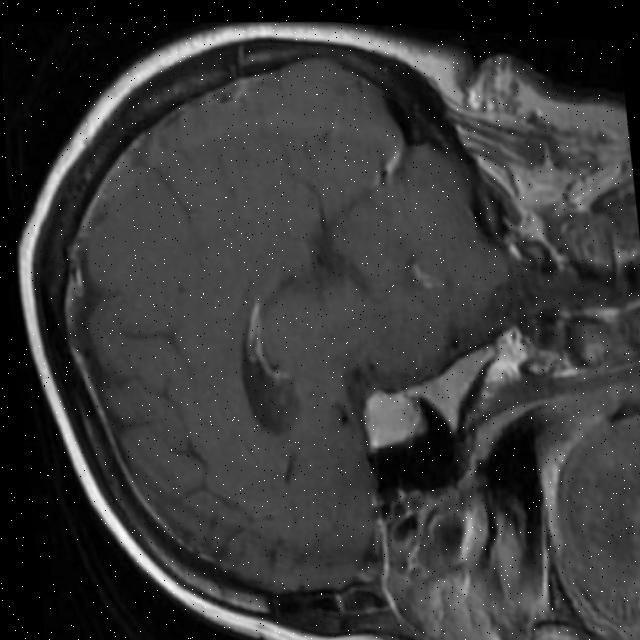Pituitary: (358, 382, 423, 458)
